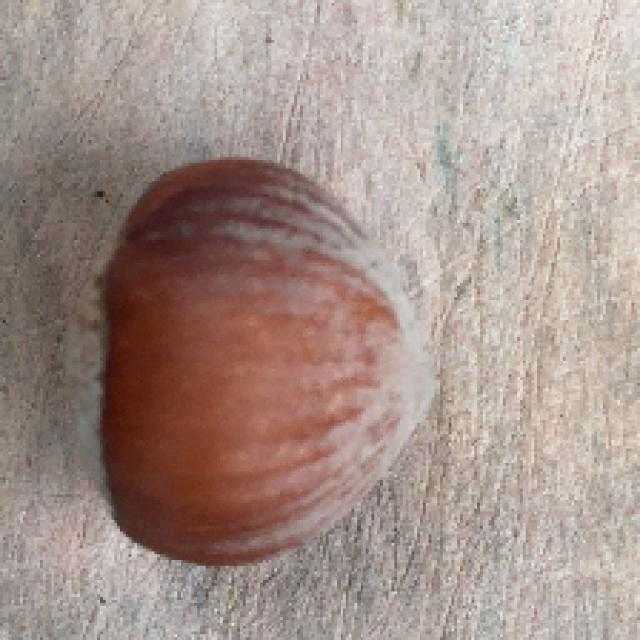qualityHazelnut: (62, 157, 438, 571)
